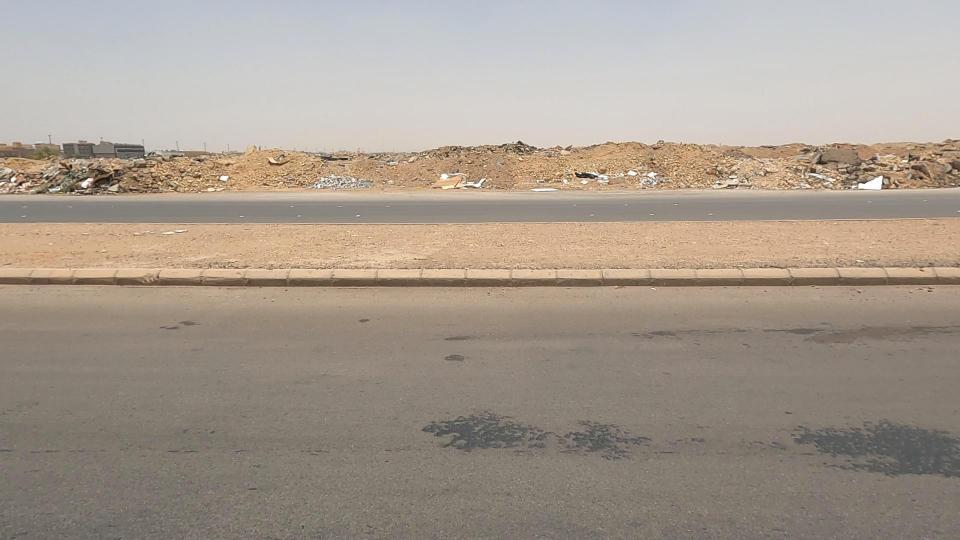CLUTTER_SIDEWALK: (0, 178, 401, 321), (471, 192, 950, 302), (235, 188, 651, 309)
GARBAGE: (580, 140, 698, 206), (392, 151, 520, 209), (281, 145, 399, 207), (538, 144, 635, 209), (816, 153, 920, 211), (4, 157, 101, 207), (662, 156, 767, 202), (499, 163, 572, 213), (42, 154, 117, 202), (82, 159, 150, 206), (185, 162, 251, 203), (246, 143, 308, 178)
